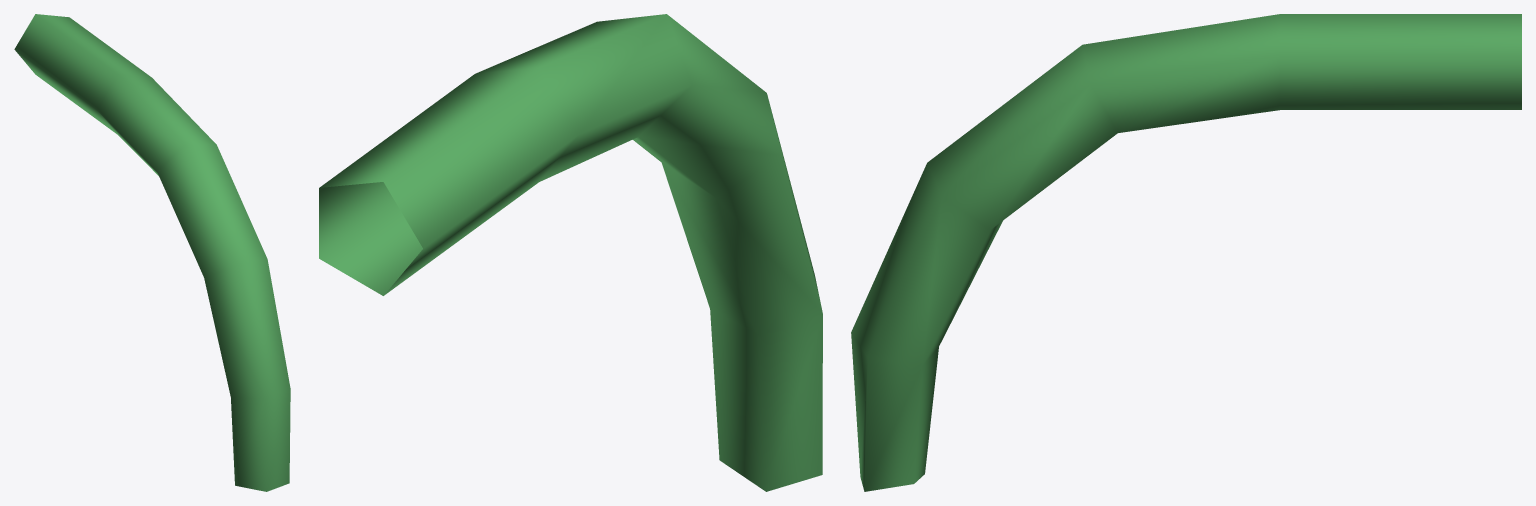
File: PipeJ_1.fbx
3 renders of one model, left to right at view 1: azimuth 30°, elevation 25°; view 2: azimuth 150°, elevation 25°; view 3: azimuth 270°, elevation 25°, orthographic. The views are drawn at different scales.
Parts seen in each view (by area): view 1: PipeJ_1; view 2: PipeJ_1; view 3: PipeJ_1.
Part boxes in pixels (<box>): PipeJ_1: <box>14,14,290,491</box>; PipeJ_1: <box>319,14,822,491</box>; PipeJ_1: <box>851,14,1521,491</box>.
Size of the model in its own units: 15.07 by 81.81 by 108.
